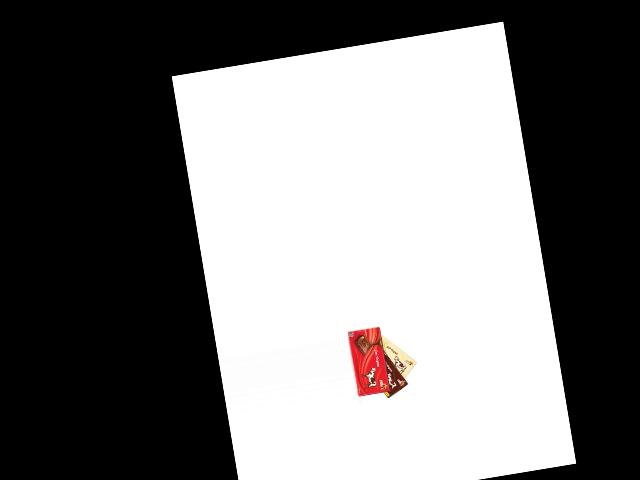chocolate: (374, 323, 420, 389)
